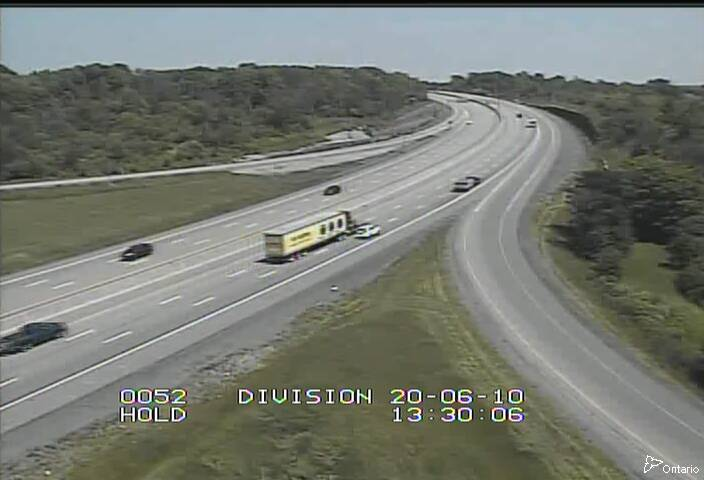time_stamp: (387, 406, 530, 426), (387, 386, 527, 406)
